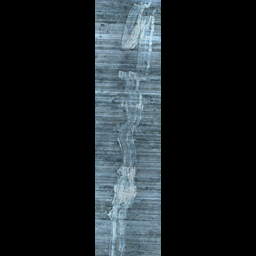d: (104, 1, 157, 256)
